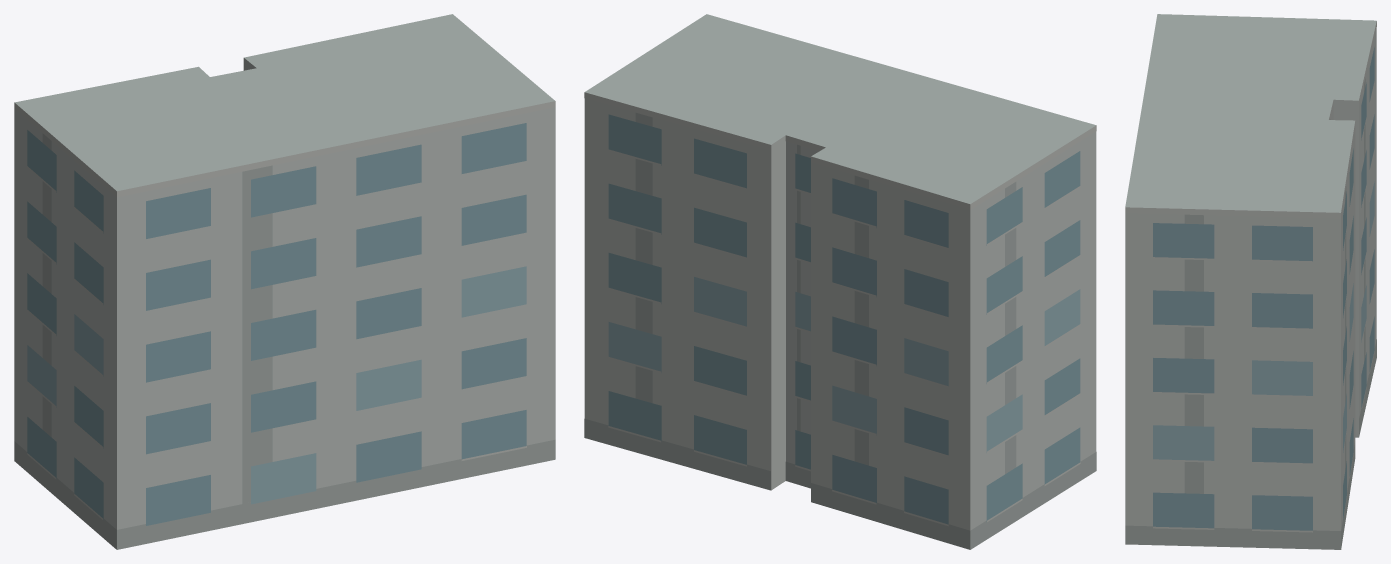
The model's file is survey-upis-32953537.glb.
The picture shows the model from 3 angles, left to right: view 1: azimuth 30°, elevation 25°; view 2: azimuth 150°, elevation 25°; view 3: azimuth 270°, elevation 25°; orthographic projection. The views are drawn at different scales.
Parts seen in each view (by area): view 1: survey-upis-32953537.tmp; view 2: survey-upis-32953537.tmp; view 3: survey-upis-32953537.tmp.
Boxes of the visible parts, x1,y1,x2,y2 form: survey-upis-32953537.tmp: (14, 14, 555, 549); survey-upis-32953537.tmp: (584, 14, 1096, 549); survey-upis-32953537.tmp: (1125, 14, 1376, 549).
Size of the model in its own units: 17.85 by 14.1 by 9.55.
